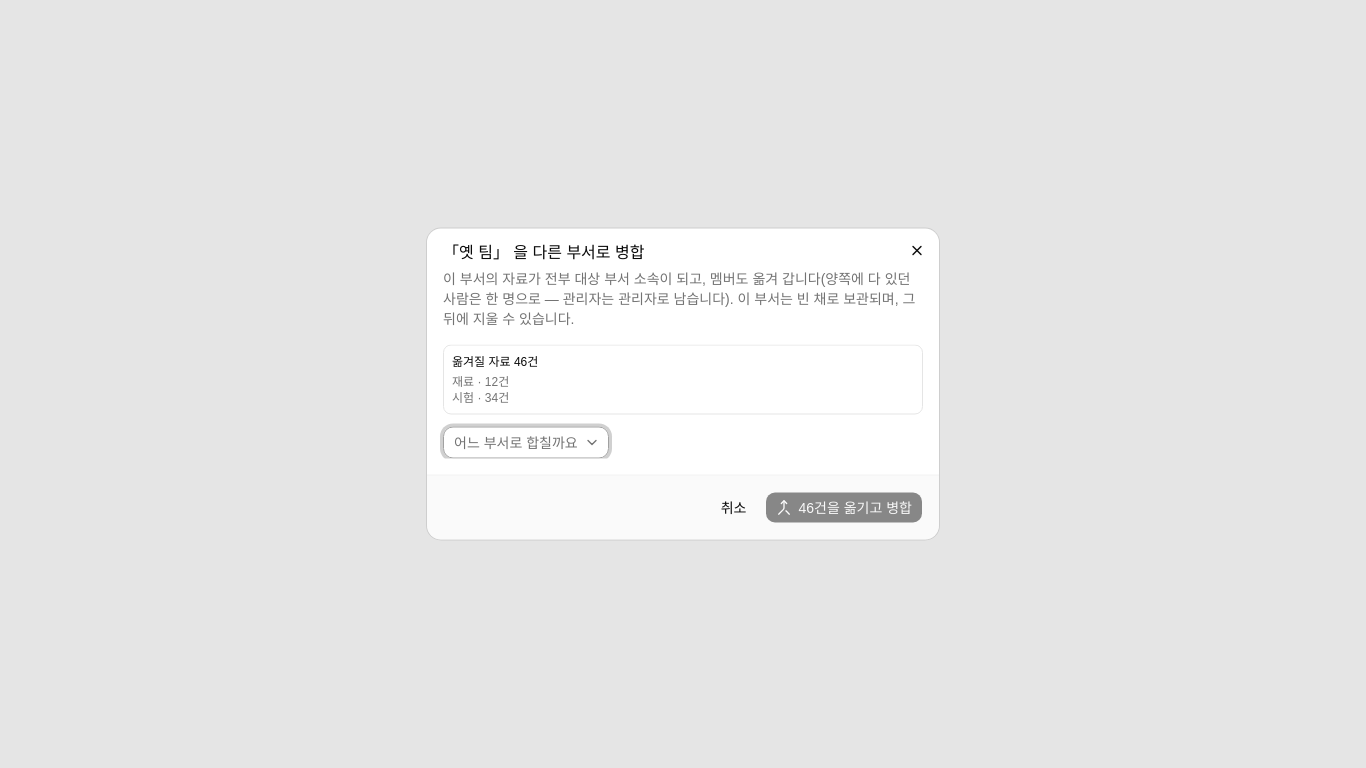
무엇이 옮겨지는지 보고 누른다 › 고르고 누르면 옮기고, 몇 건이 갔는지 말한다
The width and height of the screenshot is (1366, 768).
Click the dropdown named "합칠 대상 부서": {"x": 526, "y": 442} [443,426,609,458]
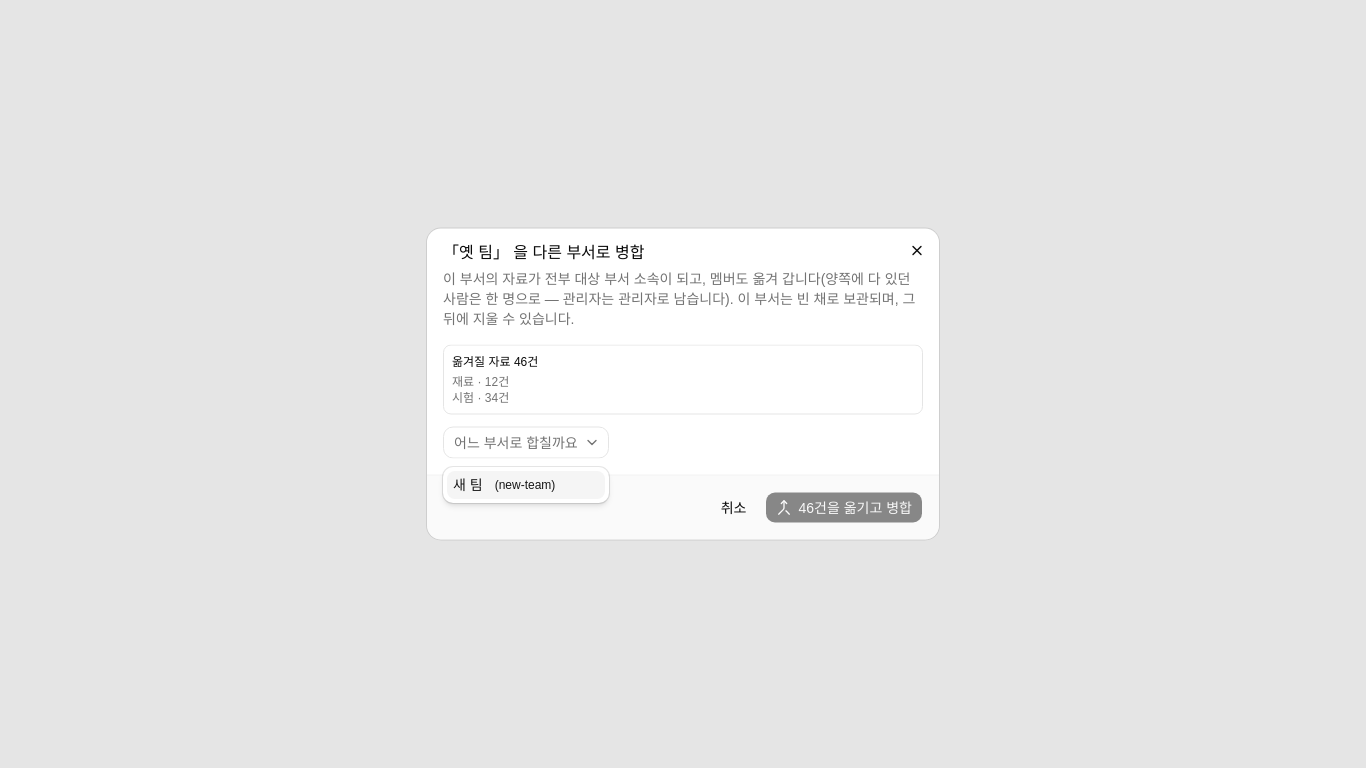
Click the option "새 팀 (new-team)": {"x": 526, "y": 485} [447,471,605,499]
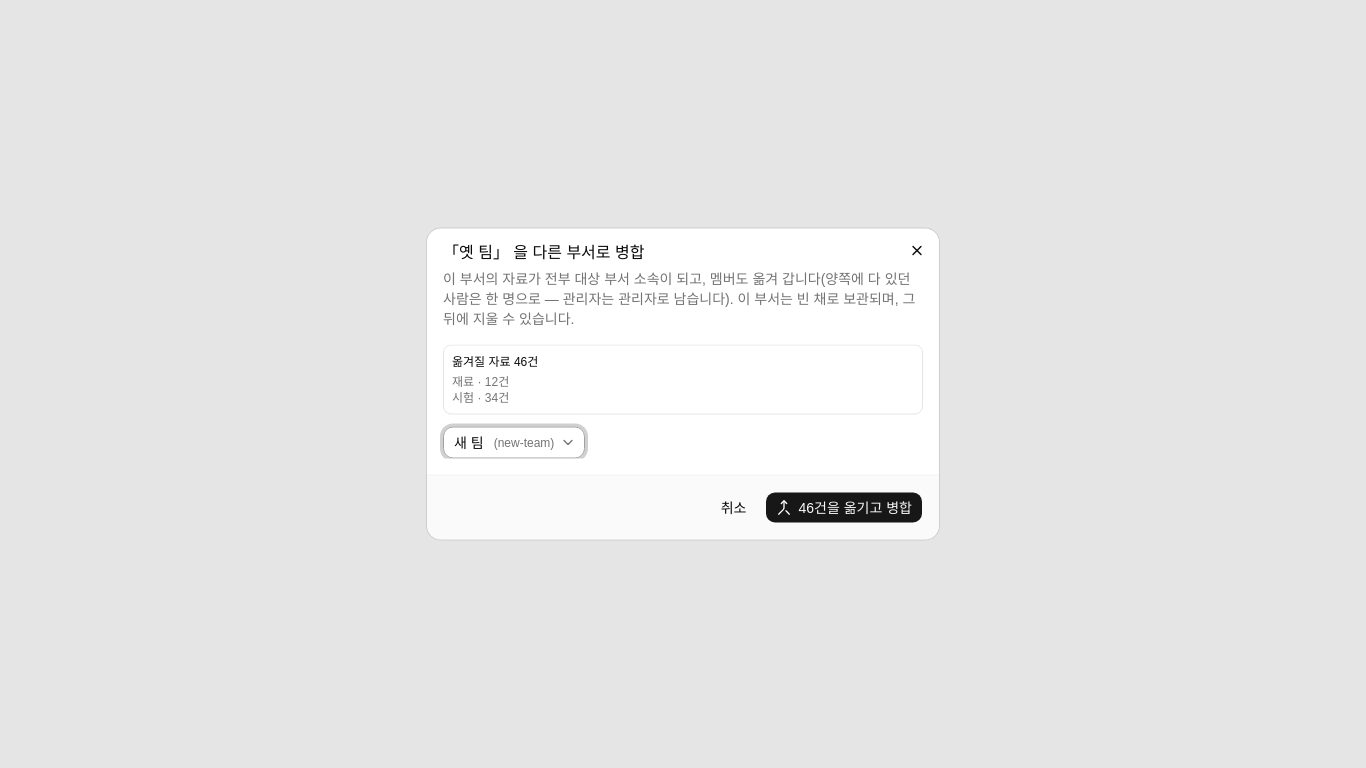
Click the button "46건을 옮기고 병합": {"x": 844, "y": 508} [766,492,923,524]
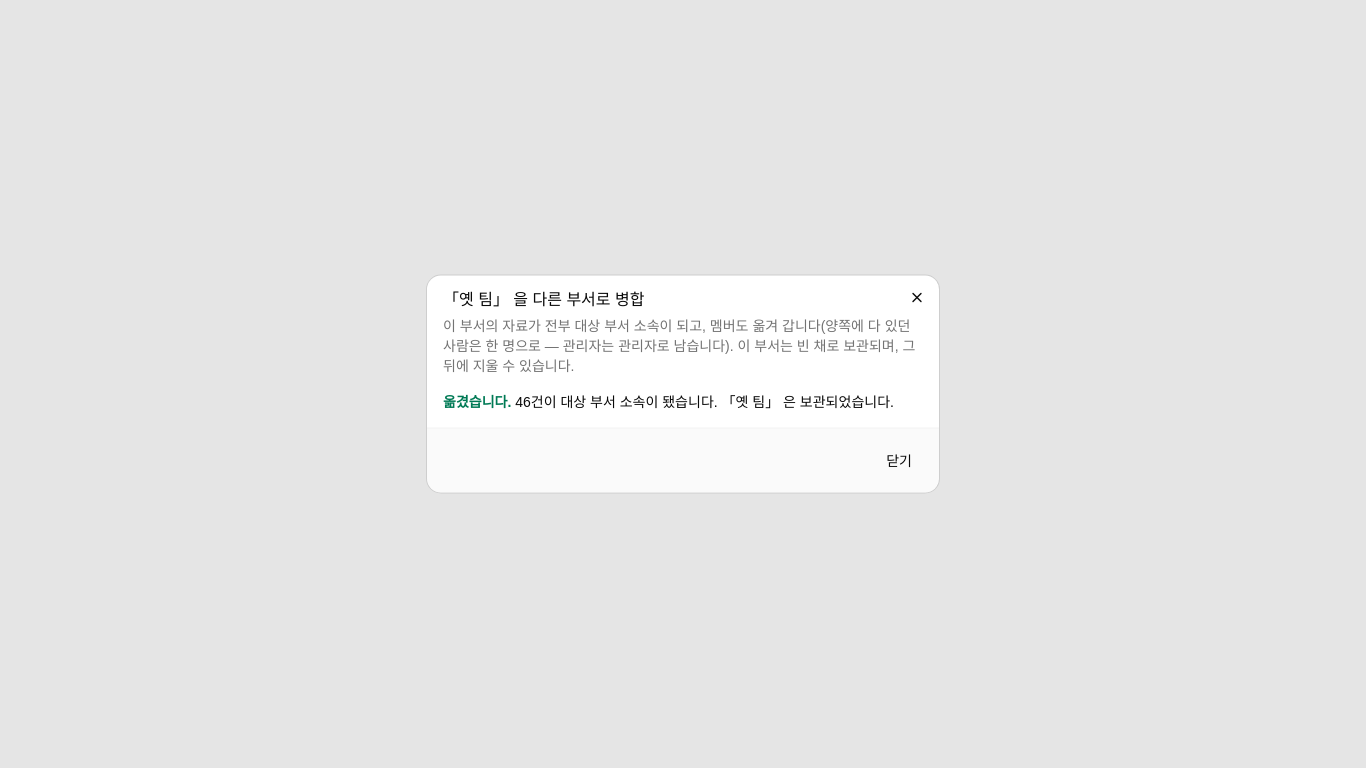
Now the text "옮겼습니다. 46건이 대상 부서 소속이 됐습니다. 「옛 팀」 은 보관되었습니다." is shown, box [443,392,923,412]
